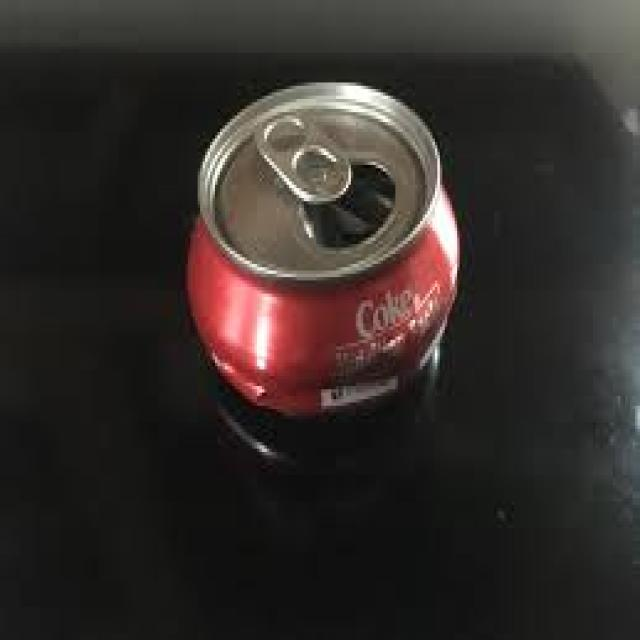metal: (181, 80, 460, 413)
